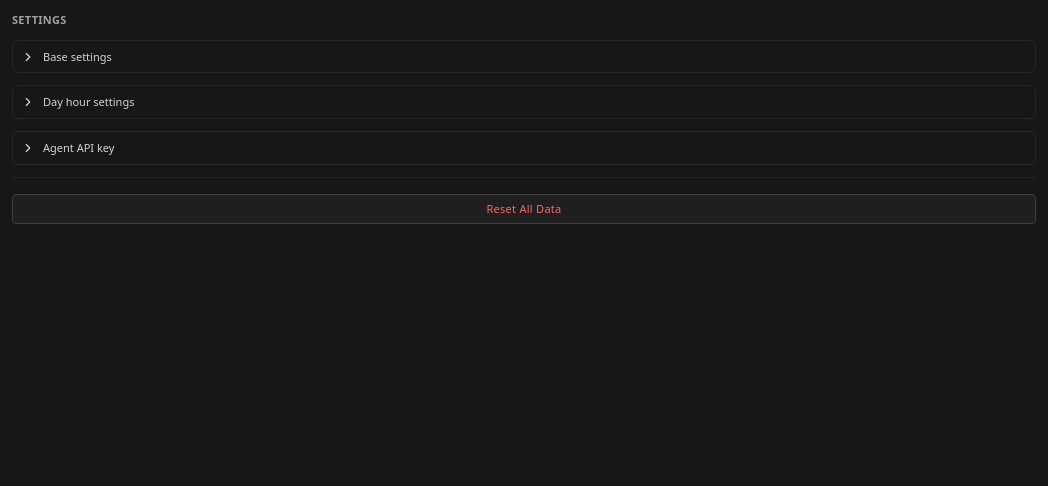
Test: SettingsPanel reset scope › stores and clears the agent API key locally
The image size is (1048, 486).
Click the button "Agent API key" at (79, 148), box [13, 132, 1035, 164]
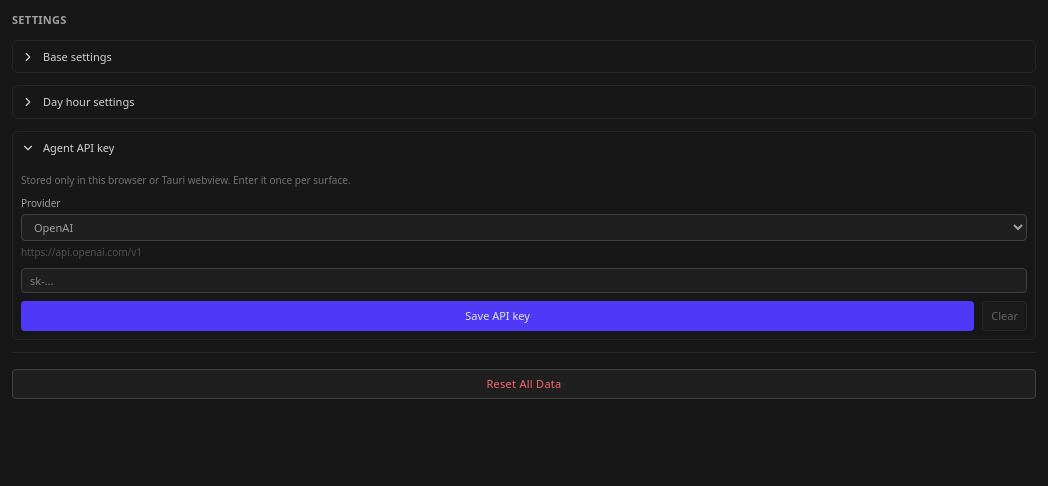
Select "DeepSeek" in the dropdown labelled "Provider https://api.openai.com/v1" at (524, 228), box [21, 214, 1027, 241]
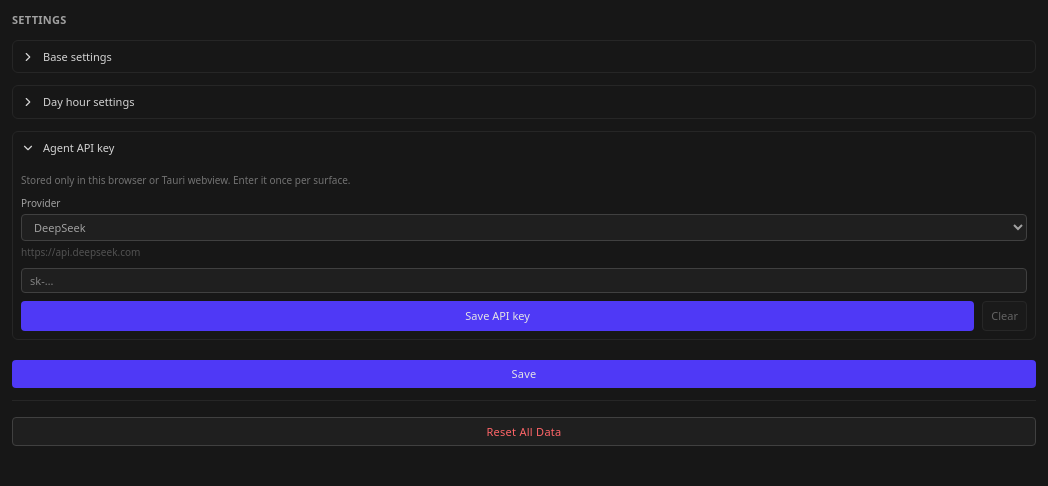
Type "  secret-key  " into the password field named "Agent API key" at (524, 280), box [21, 268, 1027, 293]
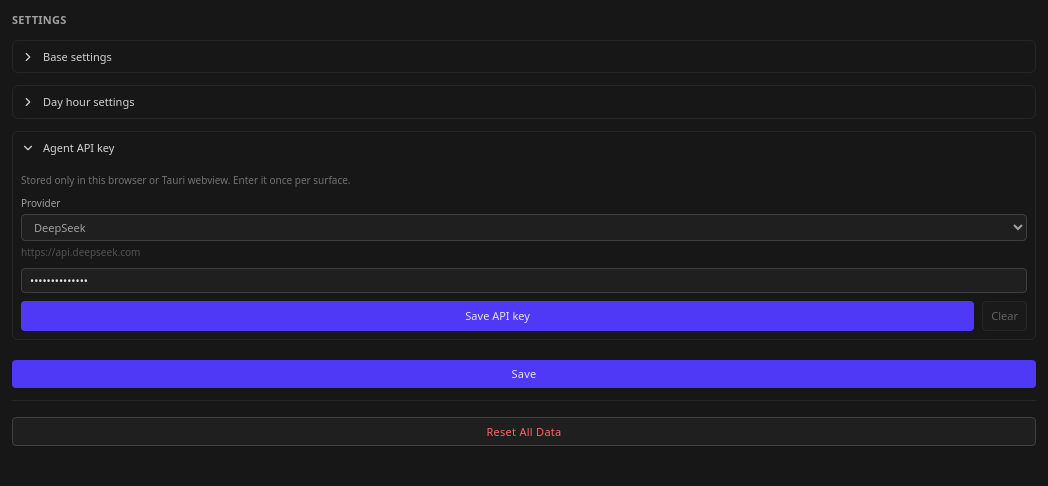
Click the button "Save API key" at (498, 316), box [21, 301, 974, 331]
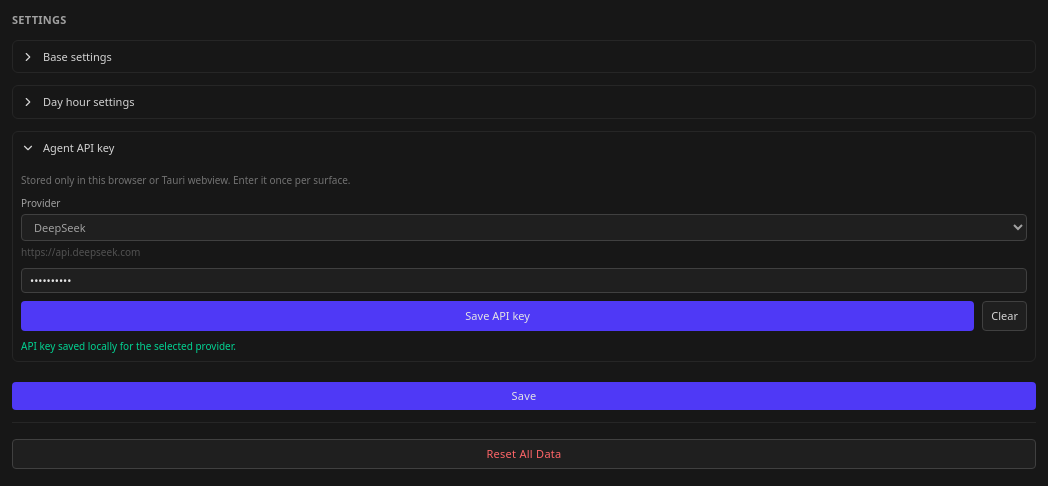
expect the message shows "API key saved locally": met, box [21, 339, 236, 353]
Click the button "Clear" at (1005, 316), box [982, 301, 1027, 331]
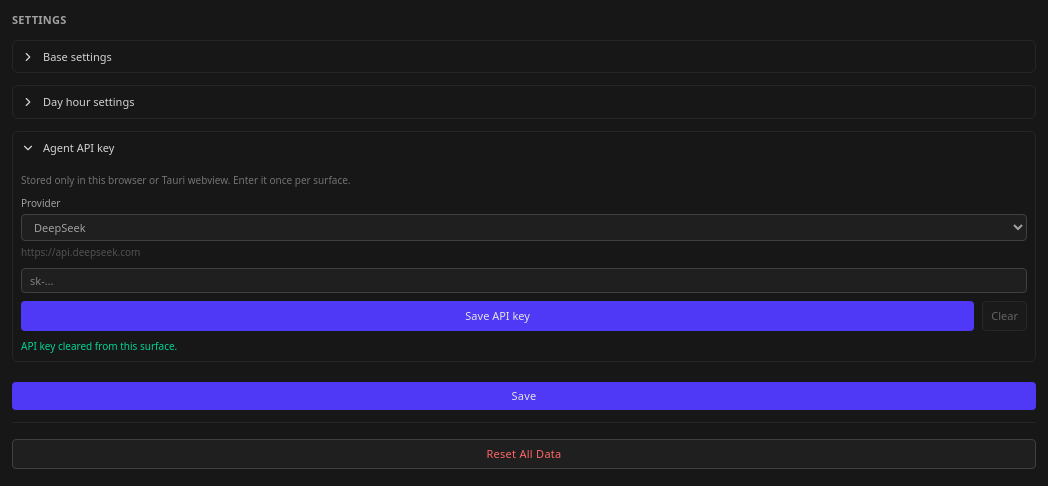
expect the message shows "API key cleared": met, box [21, 339, 177, 353]
